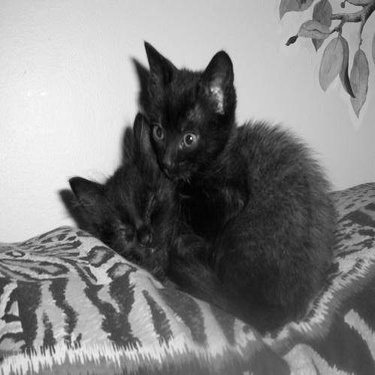cat: (143, 42, 340, 332), (69, 112, 250, 332)
